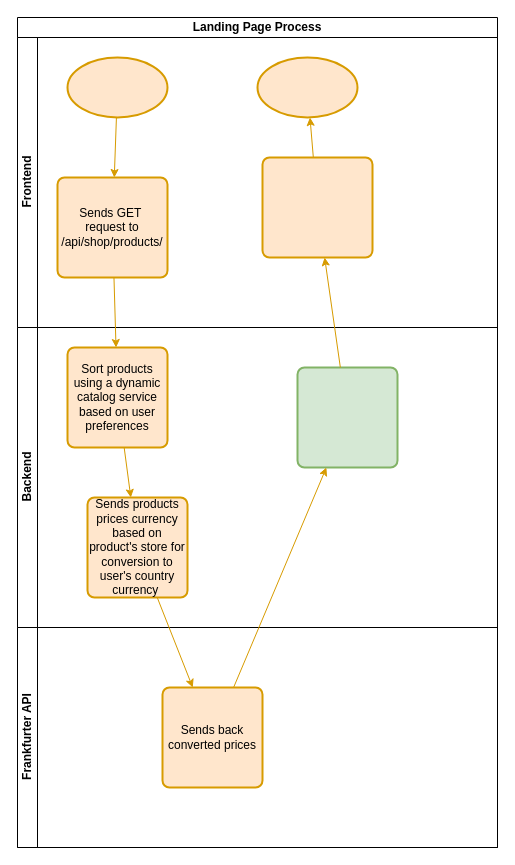
Image size: 515x865. Some labels were removed from this diagram. The shapes that lost their labels are listed below. From the top down, each one's centre as x and y in pixels, then its label:
At point 117,87: "User navigates to LandingPage".
At point 307,87: "End".
At point 317,207: "Show products".
At point 347,417: "Return processed products with HTTP 200 OK response".
